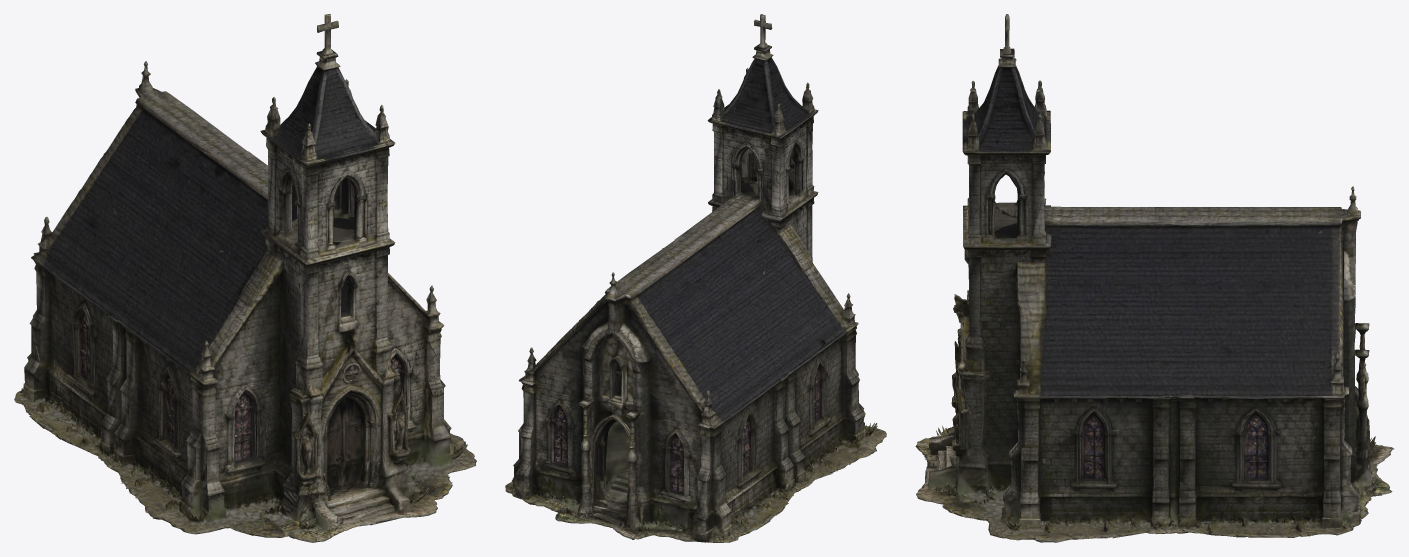
File: church.glb
The picture shows the model from 3 angles, left to right: view 1: azimuth 30°, elevation 25°; view 2: azimuth 150°, elevation 25°; view 3: azimuth 270°, elevation 25°; orthographic projection. The views are drawn at different scales.
Parts seen in each view (by area): view 1: output_unwrapped; view 2: output_unwrapped; view 3: output_unwrapped.
Part boxes in pixels (x1=…): output_unwrapped: x1=14, y1=14, x2=476, y2=542; output_unwrapped: x1=505, y1=14, x2=886, y2=542; output_unwrapped: x1=915, y1=14, x2=1393, y2=542.
Size of the model in its own units: 17.11 by 25 by 23.82.
1 material, 1 textured.
